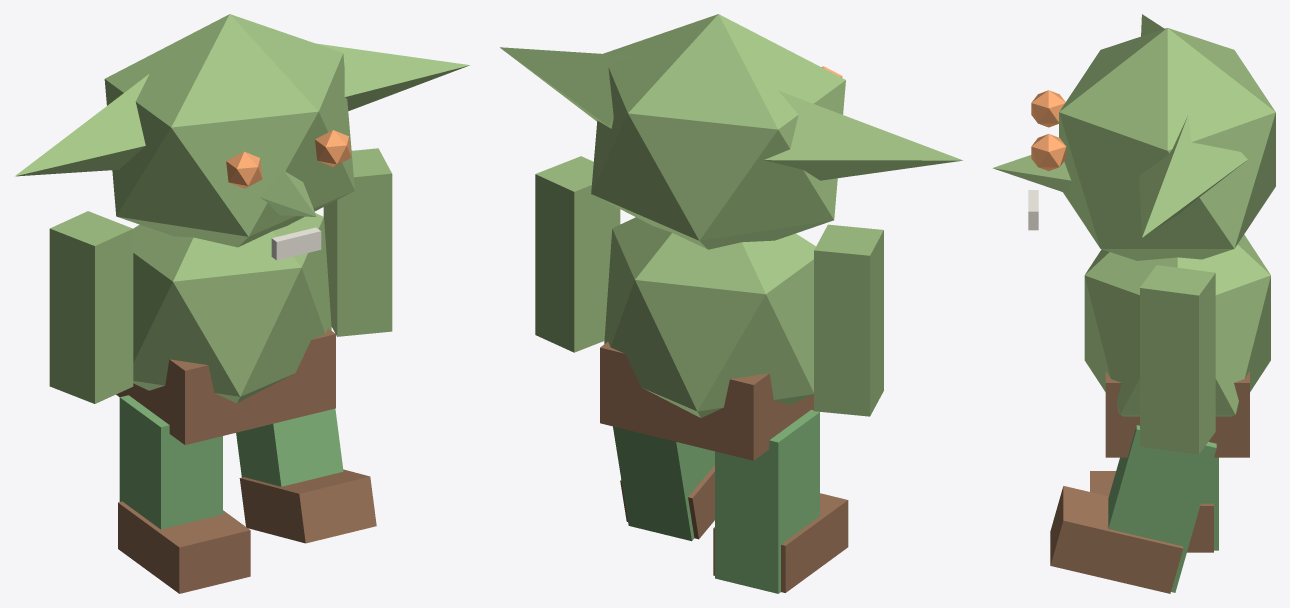
The model's file is npcpose_goblin_walk_06.glb.
The picture shows the model from 3 angles, left to right: view 1: azimuth 30°, elevation 25°; view 2: azimuth 150°, elevation 25°; view 3: azimuth 270°, elevation 25°; orthographic projection.
Parts seen in each view (by area): view 1: npcpose; view 2: npcpose; view 3: npcpose.
Part boxes in pixels (x1,y1,x2,y2): npcpose: [15, 14, 469, 593]; npcpose: [500, 14, 963, 593]; npcpose: [992, 14, 1275, 593].
Size of the model in its own units: 1.03 by 1.14 by 0.5501.
